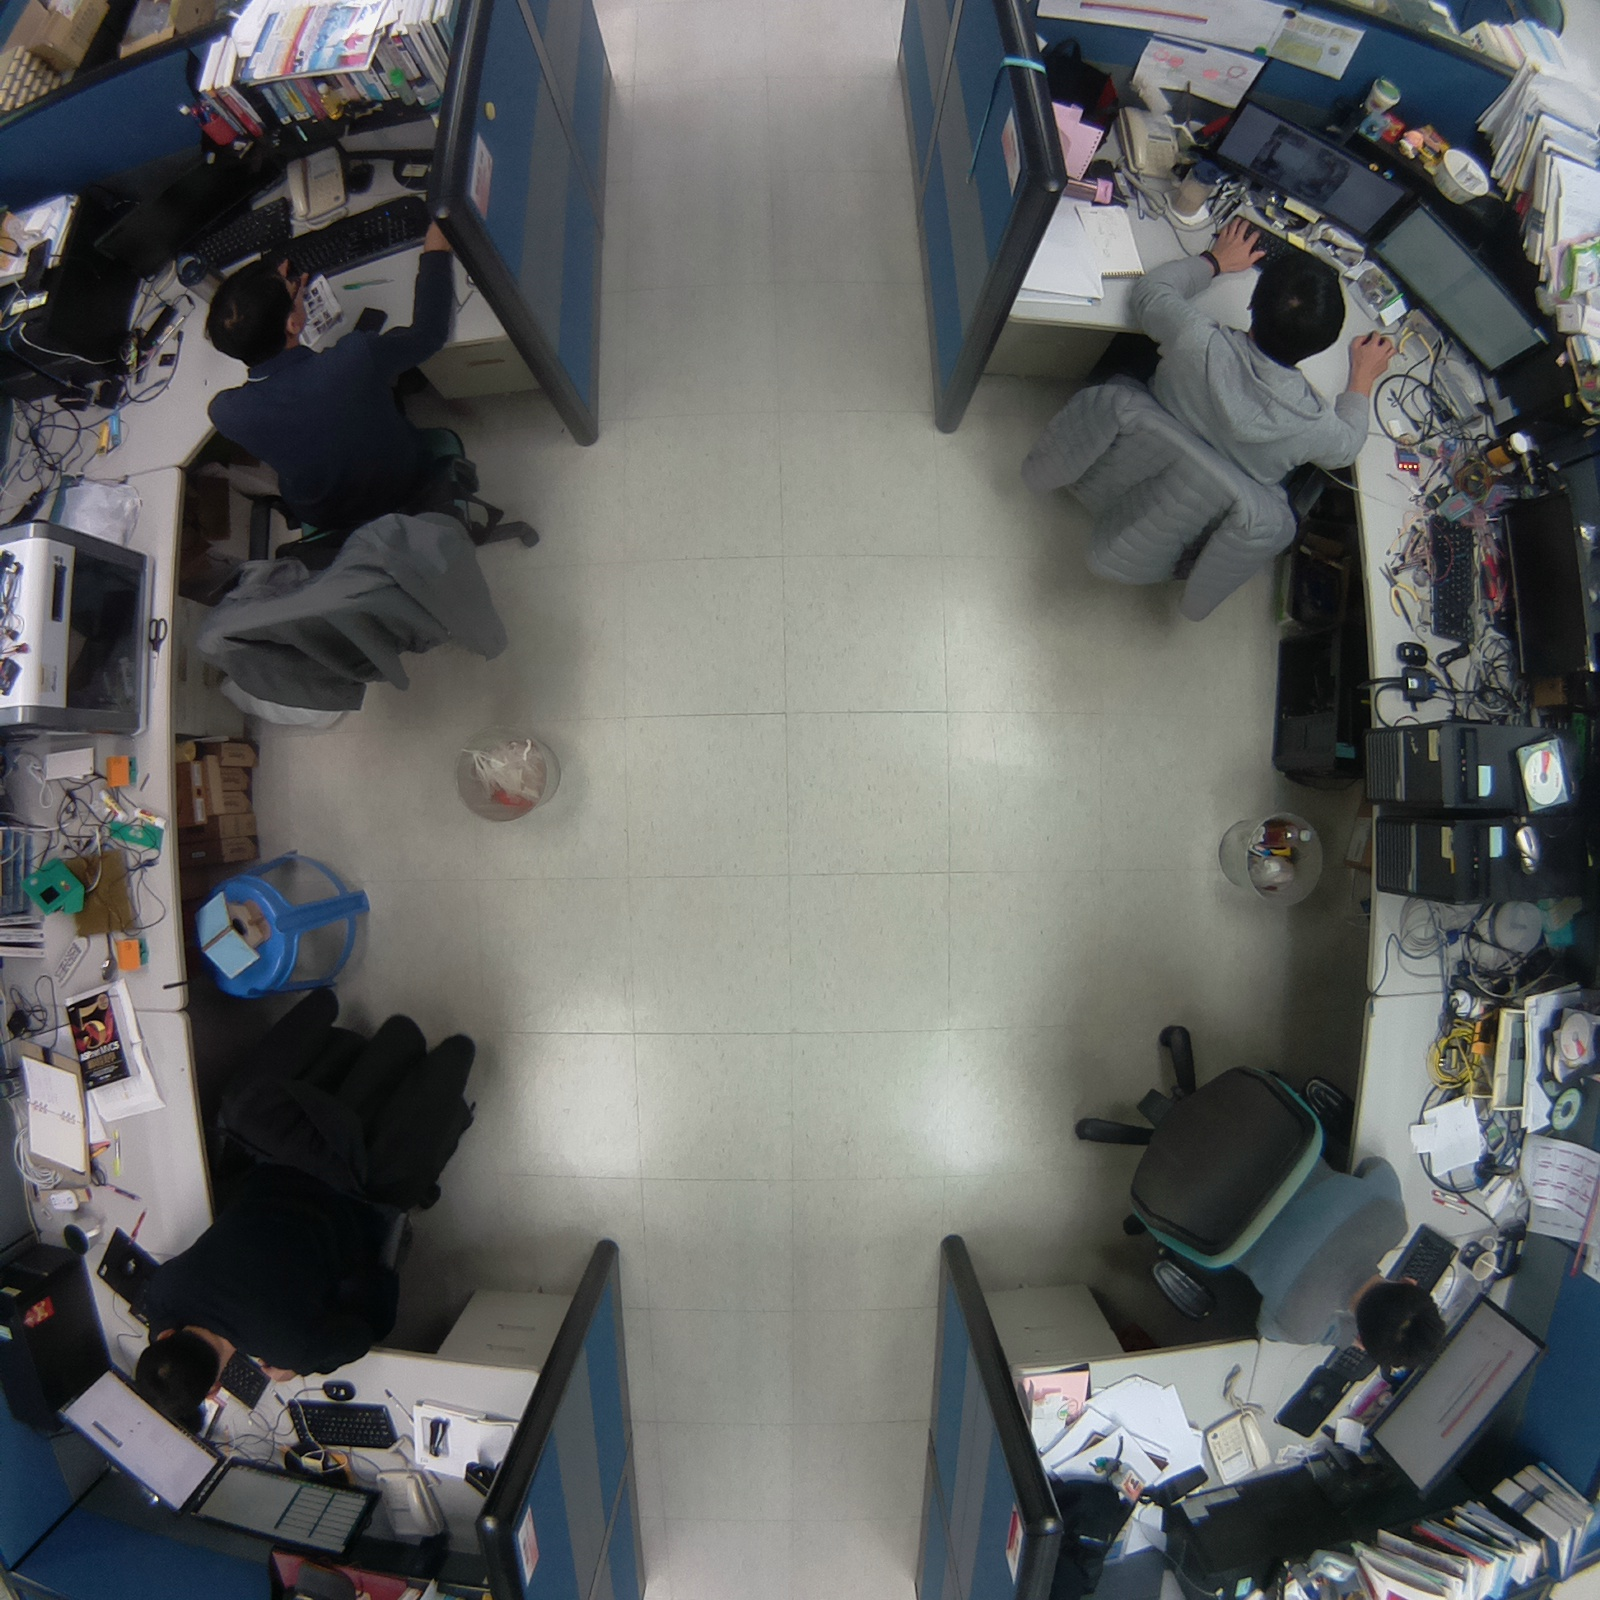head: (202, 251, 317, 370), (1244, 248, 1353, 372), (1349, 1276, 1457, 1374), (132, 1329, 232, 1421)
sitting: (176, 209, 565, 742), (986, 205, 1401, 650), (123, 965, 509, 1427), (1058, 999, 1474, 1383)
